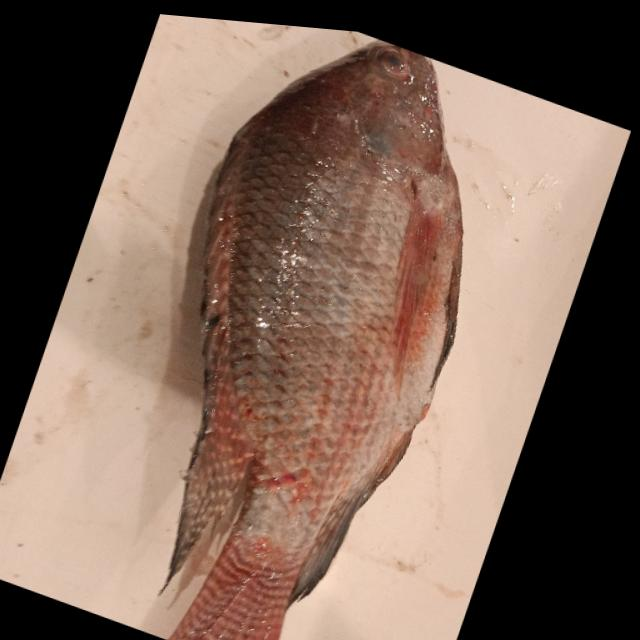Tilapia: (71, 10, 540, 640)
